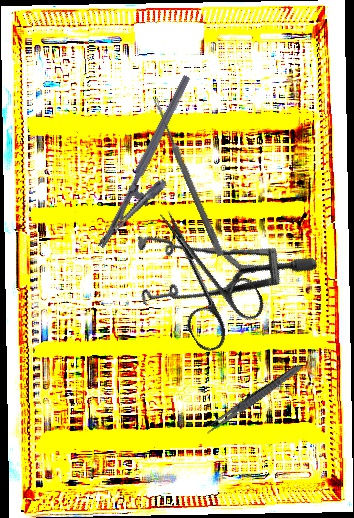Dressing Forceps: (202, 361, 305, 437)
Iris Scissors: (128, 191, 273, 357)
Needle Holder: (95, 74, 216, 261)
Speculum: (109, 175, 320, 371)
Surgical Spoon: (151, 97, 225, 257)
